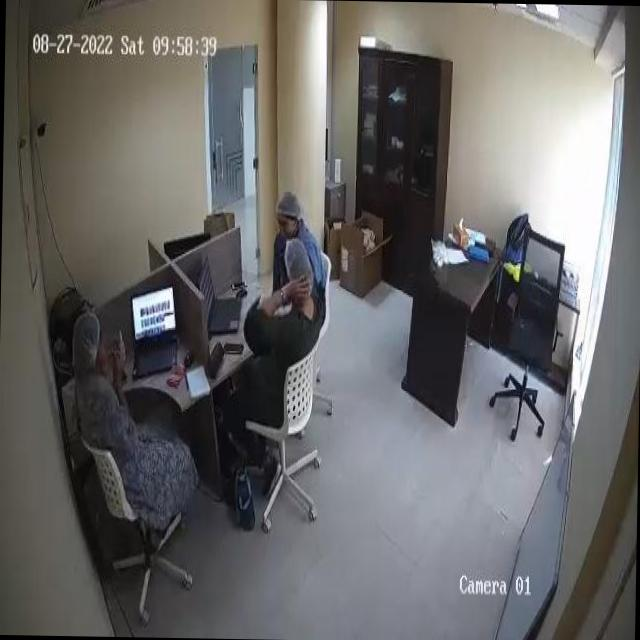hairnet: (75, 314, 98, 368), (284, 242, 311, 286), (275, 192, 302, 219)
